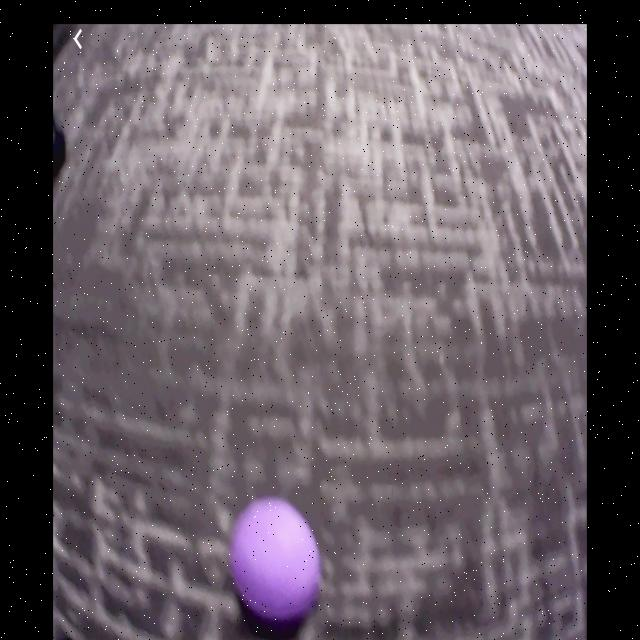ball: (235, 500, 321, 620)
